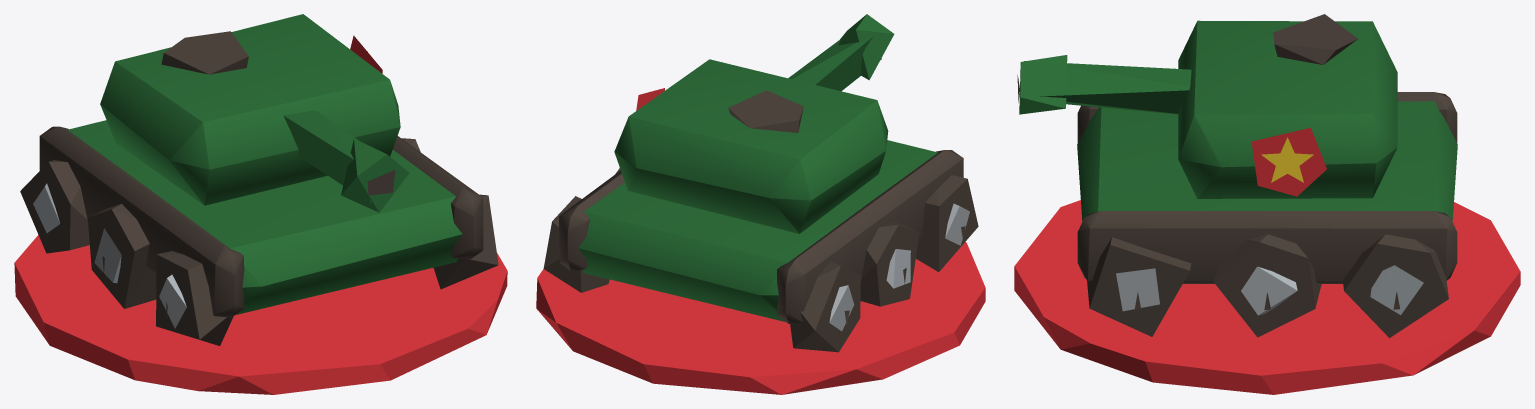
Rendered from vietnam_tank_lod1.glb.
3 renders of one model, left to right at view 1: azimuth 30°, elevation 25°; view 2: azimuth 150°, elevation 25°; view 3: azimuth 270°, elevation 25°, orthographic. The views are drawn at different scales.
Visible parts, largest first — view 1: body_hull, base_pedestal; view 2: body_hull, base_pedestal; view 3: body_hull, base_pedestal.
Part boxes in pixels (box(x1,y1,x2,y2)): body_hull: box(20, 14, 498, 345); base_pedestal: box(14, 235, 507, 394); body_hull: box(543, 14, 978, 352); base_pedestal: box(536, 242, 985, 394); body_hull: box(1017, 14, 1457, 337); base_pedestal: box(1014, 200, 1520, 394).
Bounding box in the file's own units: 0.7883 × 0.4115 × 0.7883.
